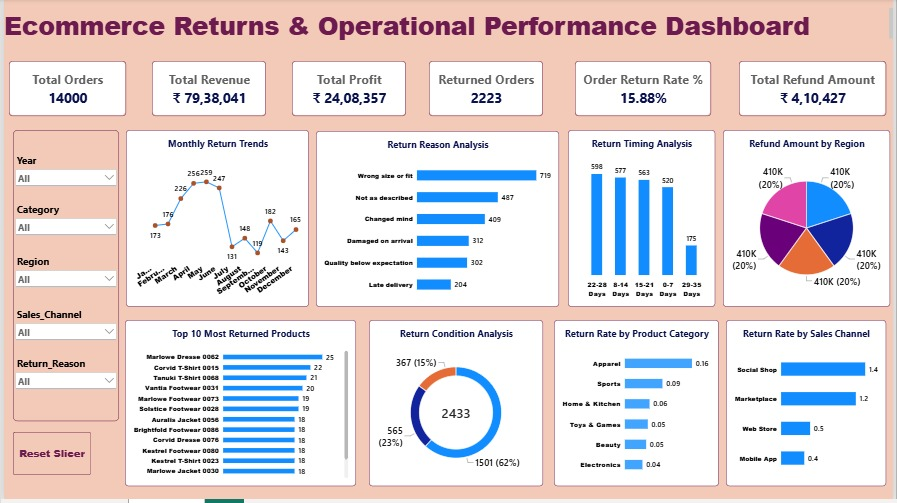

The dashboard page shown, as its layout file describes it:
{"tool":"powerbi","page":{"name":"Page 1","canvas":[1920,1080],"ordinal":0},"visuals":[{"type":"cardVisual","fields":{"Data":["fact_orders.Total Orders"]},"box":[10.8,133.9,252.7,118.8],"z":0,"group":"g1"},{"type":"lineChart","title":"Monthly Return Trends","fields":{"Category":["dim_date.Month"],"Y":["fact_returns.Returned Orders"]},"box":[263.5,283,395.3,382.3],"z":0},{"type":"cardVisual","fields":{"Data":["fact_returns.Returned Orders"]},"box":[918,133.9,246.2,118.8],"z":1000,"group":"g1"},{"type":"clusteredBarChart","title":"Return Reason Analysis","fields":{"Category":["fact_returns.return_reason"],"Y":["fact_returns.Total Return"]},"box":[673.9,285.1,524.9,380.2],"z":1000},{"type":"cardVisual","fields":{"Data":["fact_order_items.Total Profit"]},"box":[622.1,133.9,246.2,118.8],"z":2000,"group":"g1"},{"type":"clusteredBarChart","title":"Return Rate by Product Category","fields":{"Category":["dim_product.category"],"Y":["fact_returns.Item Return Rate %"]},"box":[1188,693.4,356.4,358.6],"z":2000},{"type":"cardVisual","fields":{"Data":["fact_orders.Total Revenue"]},"box":[319.7,133.9,246.2,118.8],"z":3000,"group":"g1"},{"type":"clusteredBarChart","title":"Top 10 Most Returned Products","fields":{"Category":["dim_product.product_name"],"Y":["fact_returns.Returned Item"]},"box":[261.4,693.4,499,358.6],"z":3000},{"type":"cardVisual","fields":{"Data":["fact_returns.Order Return Rate %"]},"box":[1233.4,133.9,293.8,118.8],"z":4000,"group":"g1"},{"type":"donutChart","title":"Return Condition Analysis","fields":{"Category":["fact_returns.item_condition"],"Y":["fact_returns.Total Return"]},"box":[788.4,693.4,375.8,358.6],"z":4000},{"type":"cardVisual","fields":{"Data":["fact_returns.Total Refung Amount"]},"box":[1587.6,133.9,317.5,118.8],"z":5000,"group":"g1"},{"type":"clusteredBarChart","title":"Return Rate by Sales Channel","fields":{"Category":["fact_orders.sales_channel"],"Y":["fact_returns.Order Return Rate %"]},"box":[1559.5,693.4,345.6,358.6],"z":5000},{"type":"clusteredColumnChart","title":"Return Timing Analysis","fields":{"Category":["fact_returns.return_days_group"],"Y":["fact_returns.Total Return"]},"box":[1218.2,283,317.5,382.3],"z":6000},{"type":"shape","box":[19.4,283,229,628.6],"z":7000},{"type":"slicer","fields":{"Values":["dim_date.Year"]},"box":[19.4,332.6,229,101.5],"z":8000},{"type":"slicer","fields":{"Values":["dim_product.category"]},"box":[19.4,438.5,229,101.5],"z":9000},{"type":"pieChart","title":"Refund Amount by Region","fields":{"Category":["dim_location.shipping_region"],"Y":["fact_returns.Total Refund Amount"]},"box":[1553,283,360.7,382.3],"z":10000},{"type":"group","id":"g1","title":"Group 1","box":[10.8,133.9,1894.3,118.8],"z":11000},{"type":"slicer","fields":{"Values":["dim_location.region"]},"box":[19.4,550.8,229,101.5],"z":12000},{"type":"slicer","fields":{"Values":["fact_orders.sales_channel"]},"box":[19.4,665.3,229,101.5],"z":13000},{"type":"slicer","fields":{"Values":["fact_returns.return_reason"]},"box":[19.4,771.1,229,79.9],"z":14000},{"type":"textbox","box":[0,19.4,1920.2,71.3],"z":15000},{"type":"actionButton","box":[19.4,935.3,168.5,92.9],"z":16000}]}

Visuals, with their boxes in screenshot pixels (x1, y1, x2, y2), scaled from the page's 1920x1080 canvas onto the 897x503 screenshot:
cardVisual - fact_orders.Total Orders: {"x1": 5, "y1": 62, "x2": 123, "y2": 118}
"Monthly Return Trends" lineChart: {"x1": 123, "y1": 132, "x2": 308, "y2": 310}
cardVisual - fact_returns.Returned Orders: {"x1": 429, "y1": 62, "x2": 544, "y2": 118}
"Return Reason Analysis" clusteredBarChart: {"x1": 315, "y1": 133, "x2": 560, "y2": 310}
cardVisual - fact_order_items.Total Profit: {"x1": 291, "y1": 62, "x2": 406, "y2": 118}
"Return Rate by Product Category" clusteredBarChart: {"x1": 555, "y1": 323, "x2": 722, "y2": 490}
cardVisual - fact_orders.Total Revenue: {"x1": 149, "y1": 62, "x2": 264, "y2": 118}
"Top 10 Most Returned Products" clusteredBarChart: {"x1": 122, "y1": 323, "x2": 355, "y2": 490}
cardVisual - fact_returns.Order Return Rate %: {"x1": 576, "y1": 62, "x2": 713, "y2": 118}
"Return Condition Analysis" donutChart: {"x1": 368, "y1": 323, "x2": 544, "y2": 490}
cardVisual - fact_returns.Total Refung Amount: {"x1": 742, "y1": 62, "x2": 890, "y2": 118}
"Return Rate by Sales Channel" clusteredBarChart: {"x1": 729, "y1": 323, "x2": 890, "y2": 490}
"Return Timing Analysis" clusteredColumnChart: {"x1": 569, "y1": 132, "x2": 717, "y2": 310}
shape: {"x1": 9, "y1": 132, "x2": 116, "y2": 425}
slicer - dim_date.Year: {"x1": 9, "y1": 155, "x2": 116, "y2": 202}
slicer - dim_product.category: {"x1": 9, "y1": 204, "x2": 116, "y2": 252}
"Refund Amount by Region" pieChart: {"x1": 726, "y1": 132, "x2": 894, "y2": 310}
"Group 1" group: {"x1": 5, "y1": 62, "x2": 890, "y2": 118}
slicer - dim_location.region: {"x1": 9, "y1": 257, "x2": 116, "y2": 304}
slicer - fact_orders.sales_channel: {"x1": 9, "y1": 310, "x2": 116, "y2": 357}
slicer - fact_returns.return_reason: {"x1": 9, "y1": 359, "x2": 116, "y2": 396}
textbox: {"x1": 0, "y1": 9, "x2": 896, "y2": 42}
actionButton: {"x1": 9, "y1": 436, "x2": 88, "y2": 479}
